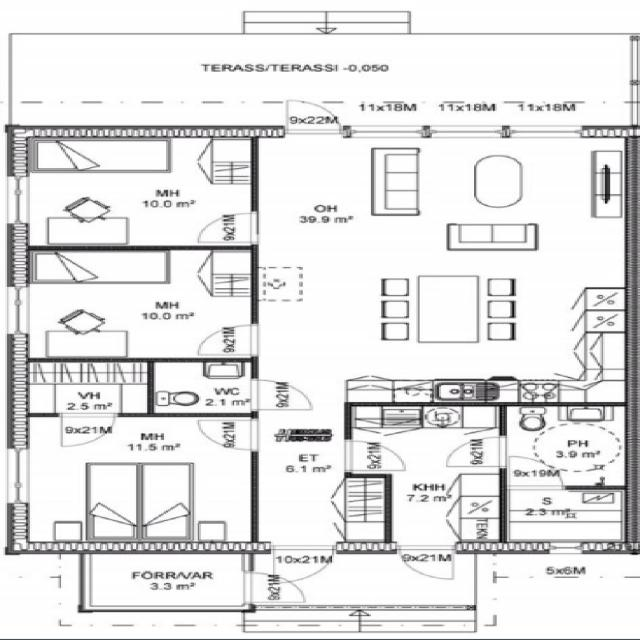door: (151, 360, 258, 416), (253, 550, 323, 600), (269, 542, 338, 582), (280, 99, 348, 137), (190, 211, 262, 246), (192, 416, 262, 452), (192, 324, 263, 358), (444, 434, 512, 469), (396, 543, 458, 581), (248, 378, 317, 411), (503, 453, 566, 488), (344, 438, 407, 473), (57, 412, 117, 448), (246, 572, 308, 606)
window: (3, 448, 31, 506), (3, 173, 33, 226), (422, 122, 509, 140), (504, 122, 590, 140), (344, 122, 428, 140), (5, 283, 31, 337), (335, 436, 370, 475), (232, 320, 265, 359), (544, 542, 588, 556)
zone: (268, 272, 611, 398), (13, 415, 257, 544), (372, 137, 629, 254), (18, 136, 255, 247), (19, 249, 257, 359), (346, 404, 509, 474), (500, 404, 631, 488), (78, 553, 254, 610), (502, 487, 631, 549), (20, 361, 153, 416), (24, 135, 178, 176), (150, 359, 255, 416), (15, 248, 178, 284)
